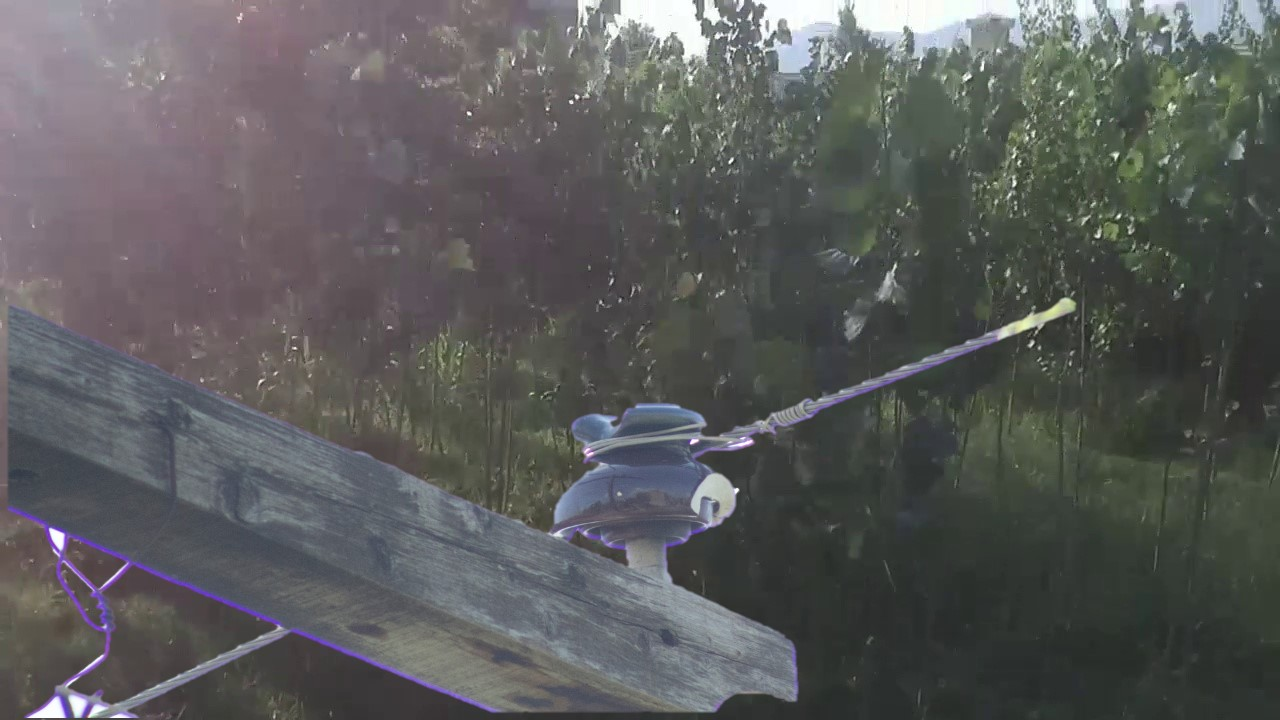defect_pin: (548, 393, 745, 553)
